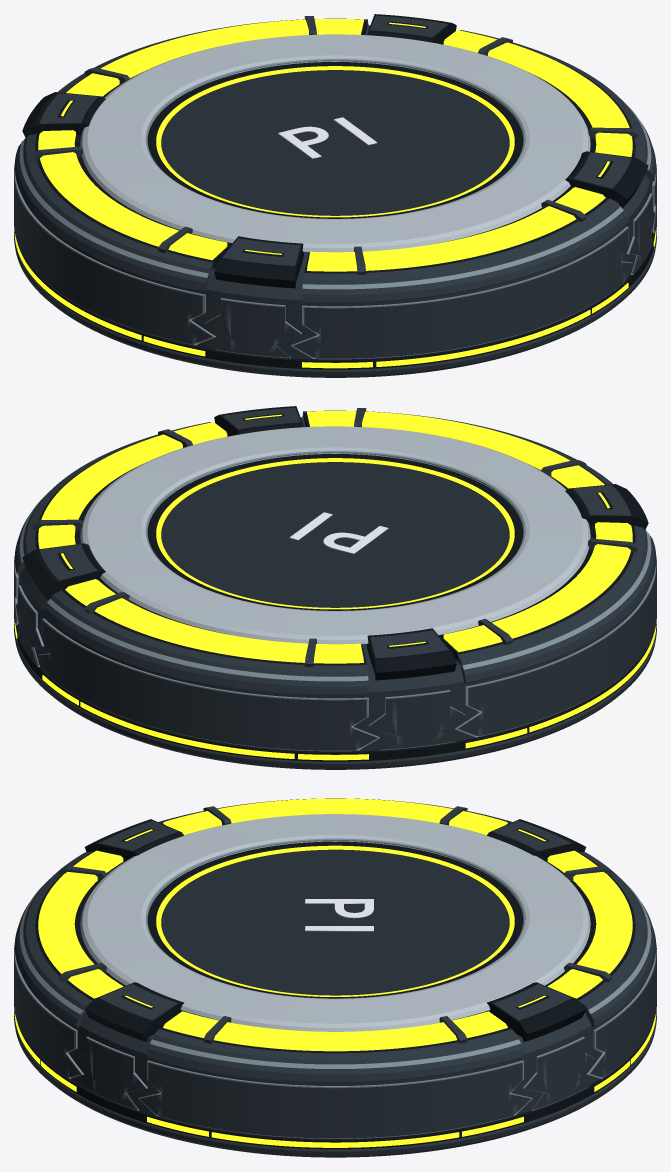
Rendered from Bouncer.fbx.
3 views of the same model, one above another, from view 1: azimuth 30°, elevation 25°; view 2: azimuth 150°, elevation 25°; view 3: azimuth 270°, elevation 25° (orthographic).
Parts seen in each view (by area): view 1: SM_Puck_Bouncer_P1_HighDetail; view 2: SM_Puck_Bouncer_P1_HighDetail; view 3: SM_Puck_Bouncer_P1_HighDetail.
Boxes of the visible parts, <box> form: SM_Puck_Bouncer_P1_HighDetail: <box>14,14,656,377</box>; SM_Puck_Bouncer_P1_HighDetail: <box>14,406,656,769</box>; SM_Puck_Bouncer_P1_HighDetail: <box>14,798,656,1157</box>.
Bounding box in the file's own units: 86.5 × 86.5 × 16.1.
